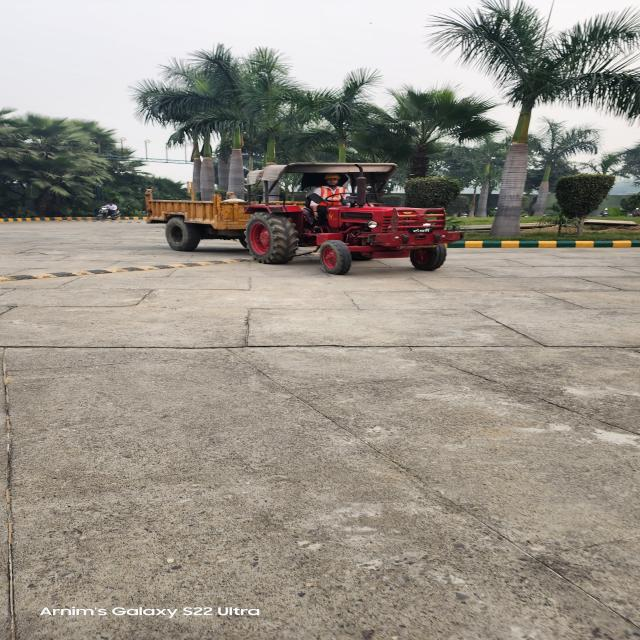safe: (310, 172, 350, 226)
